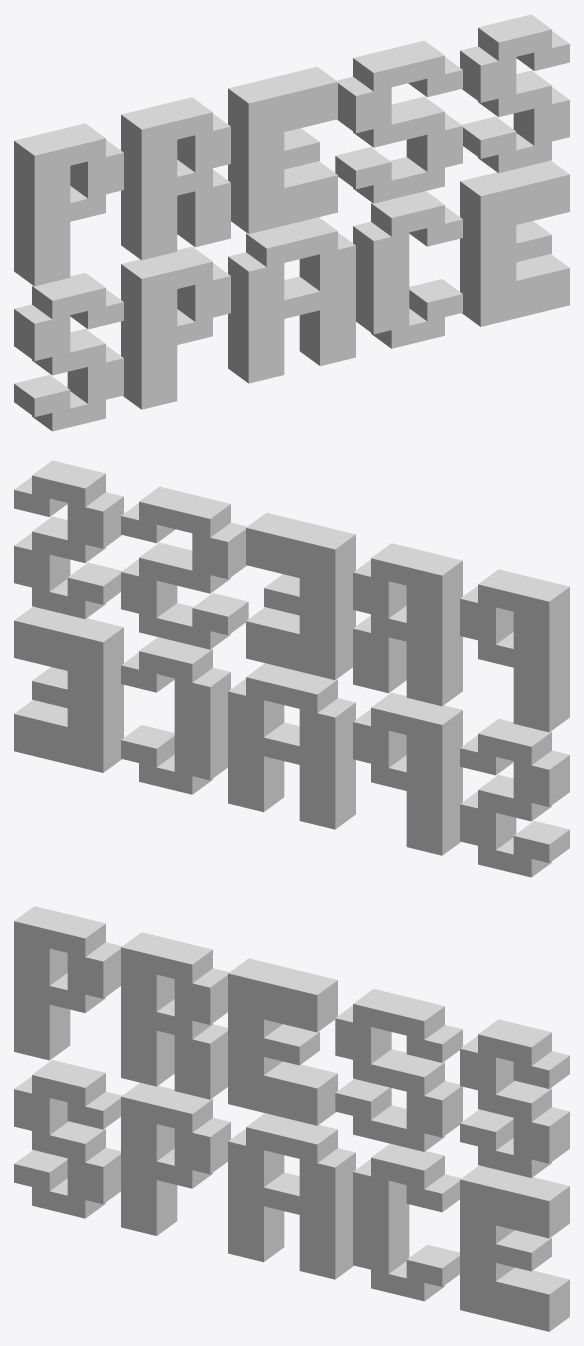
The model's file is PressSpace.obj.
3 views of the same model, one above another, from view 1: azimuth 30°, elevation 25°; view 2: azimuth 150°, elevation 25°; view 3: azimuth 330°, elevation 25° (orthographic).
Bounding box in the file's own units: 3 × 1.5 × 0.2.
1 material, 1 textured.
